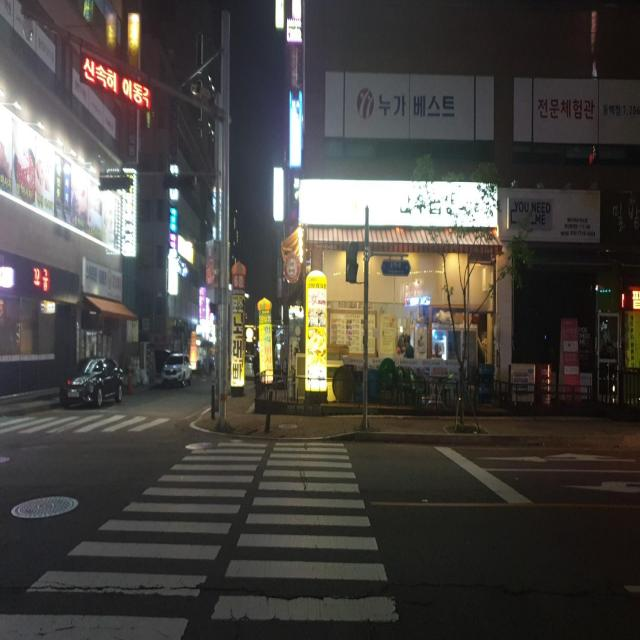횡단보도: (0, 435, 400, 640), (0, 410, 180, 433)
